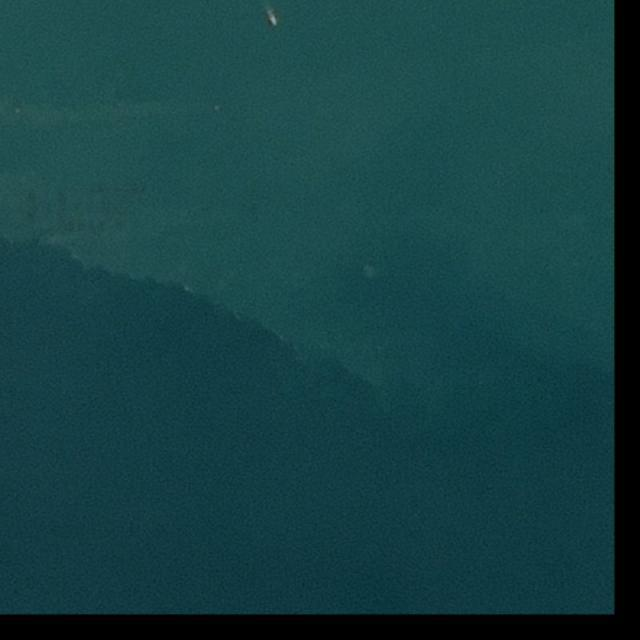ship: (268, 13, 280, 26)
